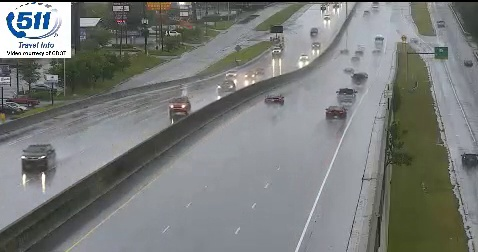car: (326, 106, 346, 121), (337, 88, 355, 102), (265, 93, 284, 106)
